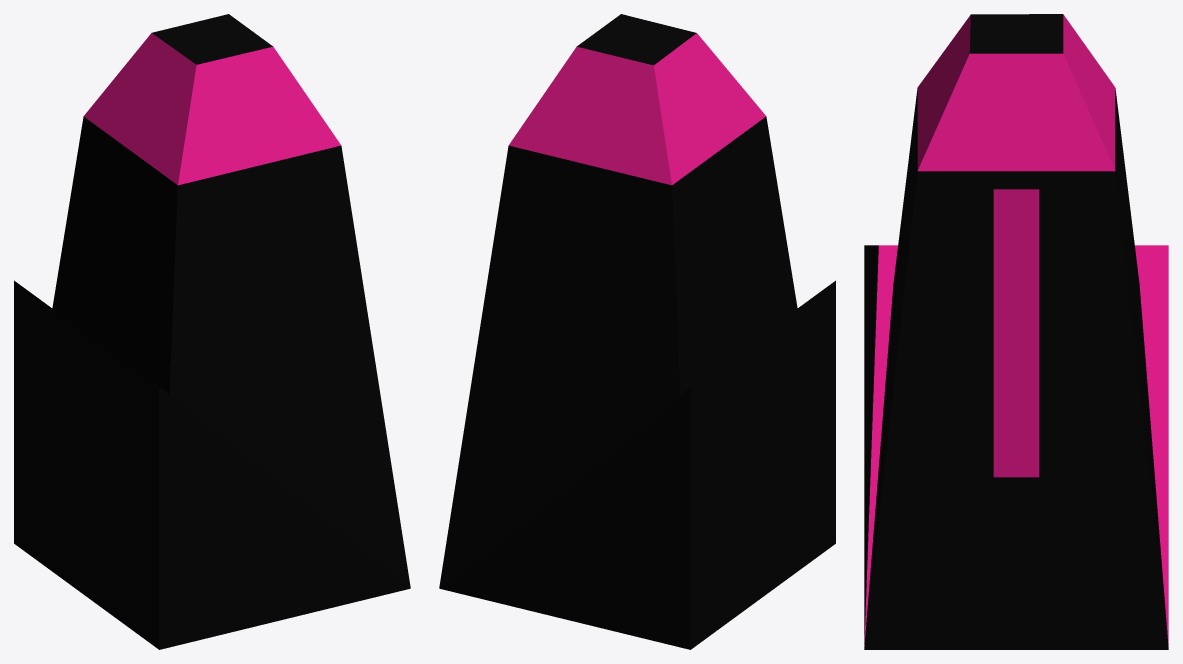
File: ShieldPanel.fbx
3 renders of one model, left to right at view 1: azimuth 30°, elevation 25°; view 2: azimuth 150°, elevation 25°; view 3: azimuth 270°, elevation 25°, orthographic. The views are drawn at different scales.
Parts seen in each view (by area): view 1: Cube; view 2: Cube; view 3: Cube.
Part boxes in pixels (x1,y1,x2,y2): Cube: (14, 14, 410, 649); Cube: (439, 14, 835, 649); Cube: (864, 14, 1168, 649).
Size of the model in its own units: 200 by 400 by 200.
